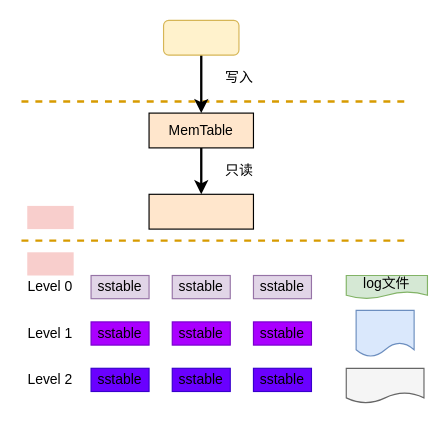
Some shapes in this 448 by 423 pixel diagram are drawn without their labels. Each missing label, with the box of its shape:
Client: (162, 19, 239, 55)
current文件: (345, 367, 424, 403)
Immutable MemTable: (148, 193, 253, 229)
manifest文件: (355, 309, 414, 357)
内存: (27, 205, 73, 229)
磁盘: (27, 252, 73, 275)
